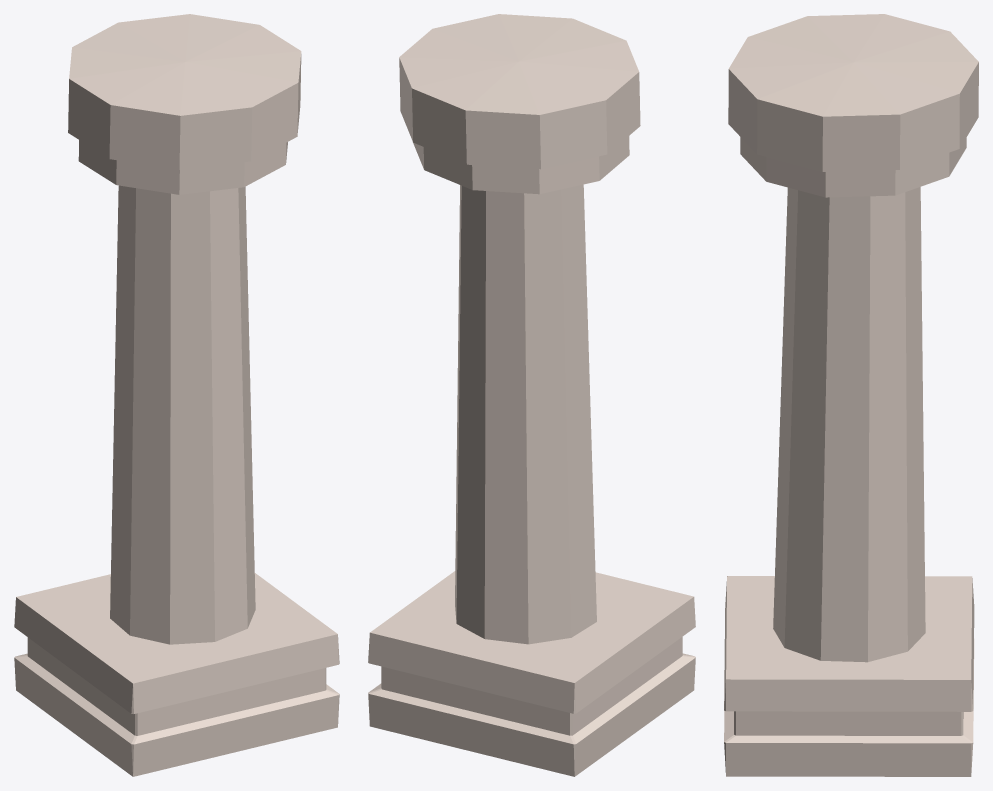
The model's file is Isl_6_Column_1.fbx.
3 views of the same model, side by side, from view 1: azimuth 30°, elevation 25°; view 2: azimuth 150°, elevation 25°; view 3: azimuth 270°, elevation 25° (orthographic). The views are drawn at different scales.
Parts seen in each view (by area): view 1: Isl_6_Column_1; view 2: Isl_6_Column_1; view 3: Isl_6_Column_1.
Boxes of the visible parts, x1,y1,x2,y2 form: Isl_6_Column_1: (14,14,339,776); Isl_6_Column_1: (368,14,695,776); Isl_6_Column_1: (724,14,978,776).
Size of the model in its own units: 113 by 111 by 322.
1 material, 1 textured.
